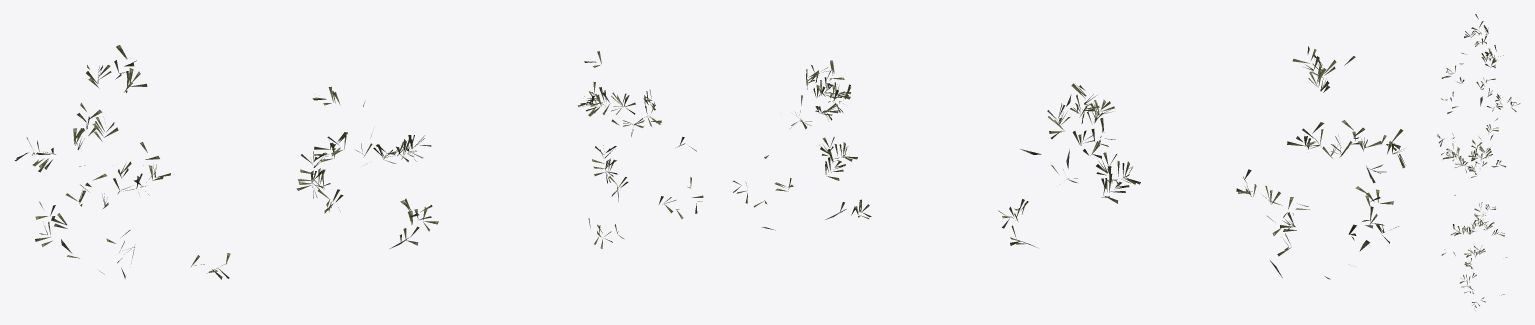
The model's file is pine.glb.
The picture shows the model from 3 angles, left to right: view 1: azimuth 30°, elevation 25°; view 2: azimuth 150°, elevation 25°; view 3: azimuth 270°, elevation 25°; orthographic projection. The views are drawn at different scales.
Parts seen in each view (by area): view 1: pine_sapling_small_a, pine_sapling_small_b, pine_sapling_small_c; view 2: pine_sapling_small_a, pine_sapling_small_b, pine_sapling_small_c; view 3: pine_sapling_small_a, pine_sapling_small_b, pine_sapling_small_c.
Part boxes in pixels (x1,y1,x2,y2): pine_sapling_small_a: (14,45,230,279); pine_sapling_small_b: (296,86,438,248); pine_sapling_small_c: (578,51,703,248); pine_sapling_small_a: (1236,46,1405,279); pine_sapling_small_b: (998,83,1140,247); pine_sapling_small_c: (732,60,871,230); pine_sapling_small_a: (1437,14,1520,146); pine_sapling_small_b: (1441,124,1505,225); pine_sapling_small_c: (1441,204,1507,310).
Bounding box in the file's own units: 2.54 × 1.08 × 0.5454.
Materials: 1 (1 with a texture image).
